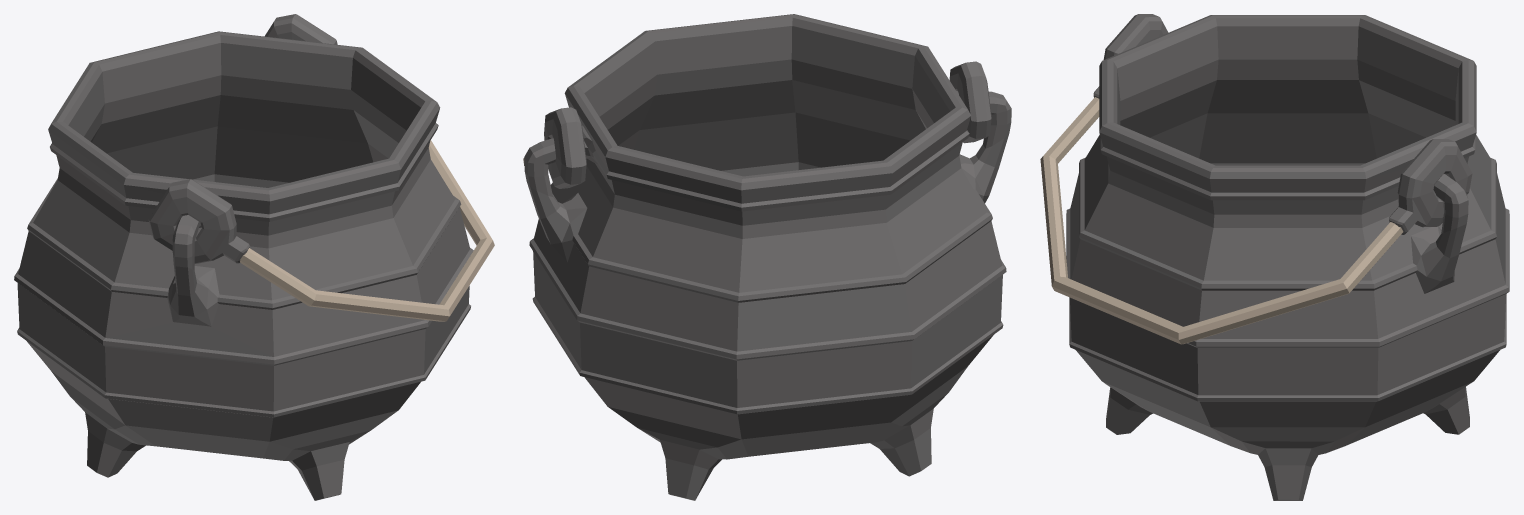
Rendered from miniCauldron.fbx.
The picture shows the model from 3 angles, left to right: view 1: azimuth 30°, elevation 25°; view 2: azimuth 150°, elevation 25°; view 3: azimuth 270°, elevation 25°; orthographic projection. The views are drawn at different scales.
Visible parts, largest first — view 1: cauldron, handle; view 2: cauldron, handle; view 3: cauldron, handle.
Part boxes in pixels (left/top/right/bottom): cauldron: left=14, top=31, right=473, bottom=500; handle: left=148, top=14, right=494, bottom=321; cauldron: left=524, top=14, right=1011, bottom=500; handle: left=523, top=61, right=991, bottom=188; cauldron: left=1066, top=15, right=1509, bottom=500; handle: left=1040, top=14, right=1472, bottom=344.
Bounding box in the file's own units: 4.6 × 3.79 × 4.6.
